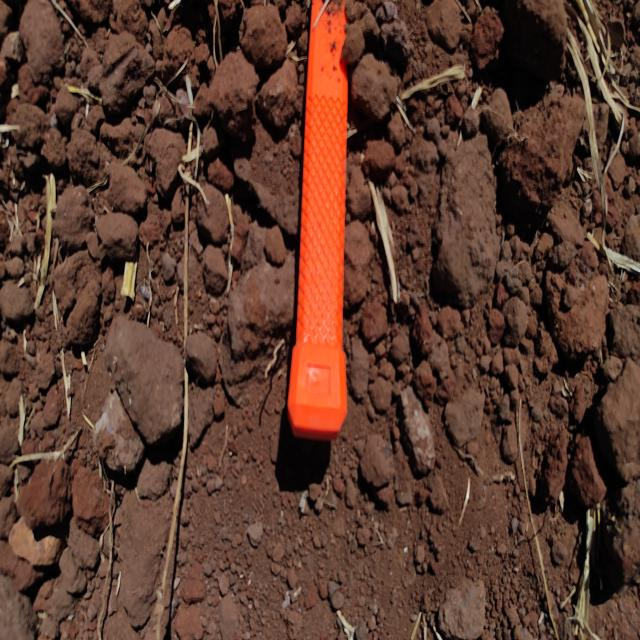Orange_hammer: (286, 1, 350, 442)
rock: (491, 79, 586, 215), (102, 316, 188, 453), (435, 124, 498, 311), (16, 457, 68, 542), (207, 49, 260, 132), (567, 422, 610, 517), (17, 4, 67, 85), (68, 467, 113, 534), (237, 1, 285, 61), (469, 4, 508, 73), (359, 430, 400, 493), (426, 1, 464, 49), (365, 142, 394, 180)
